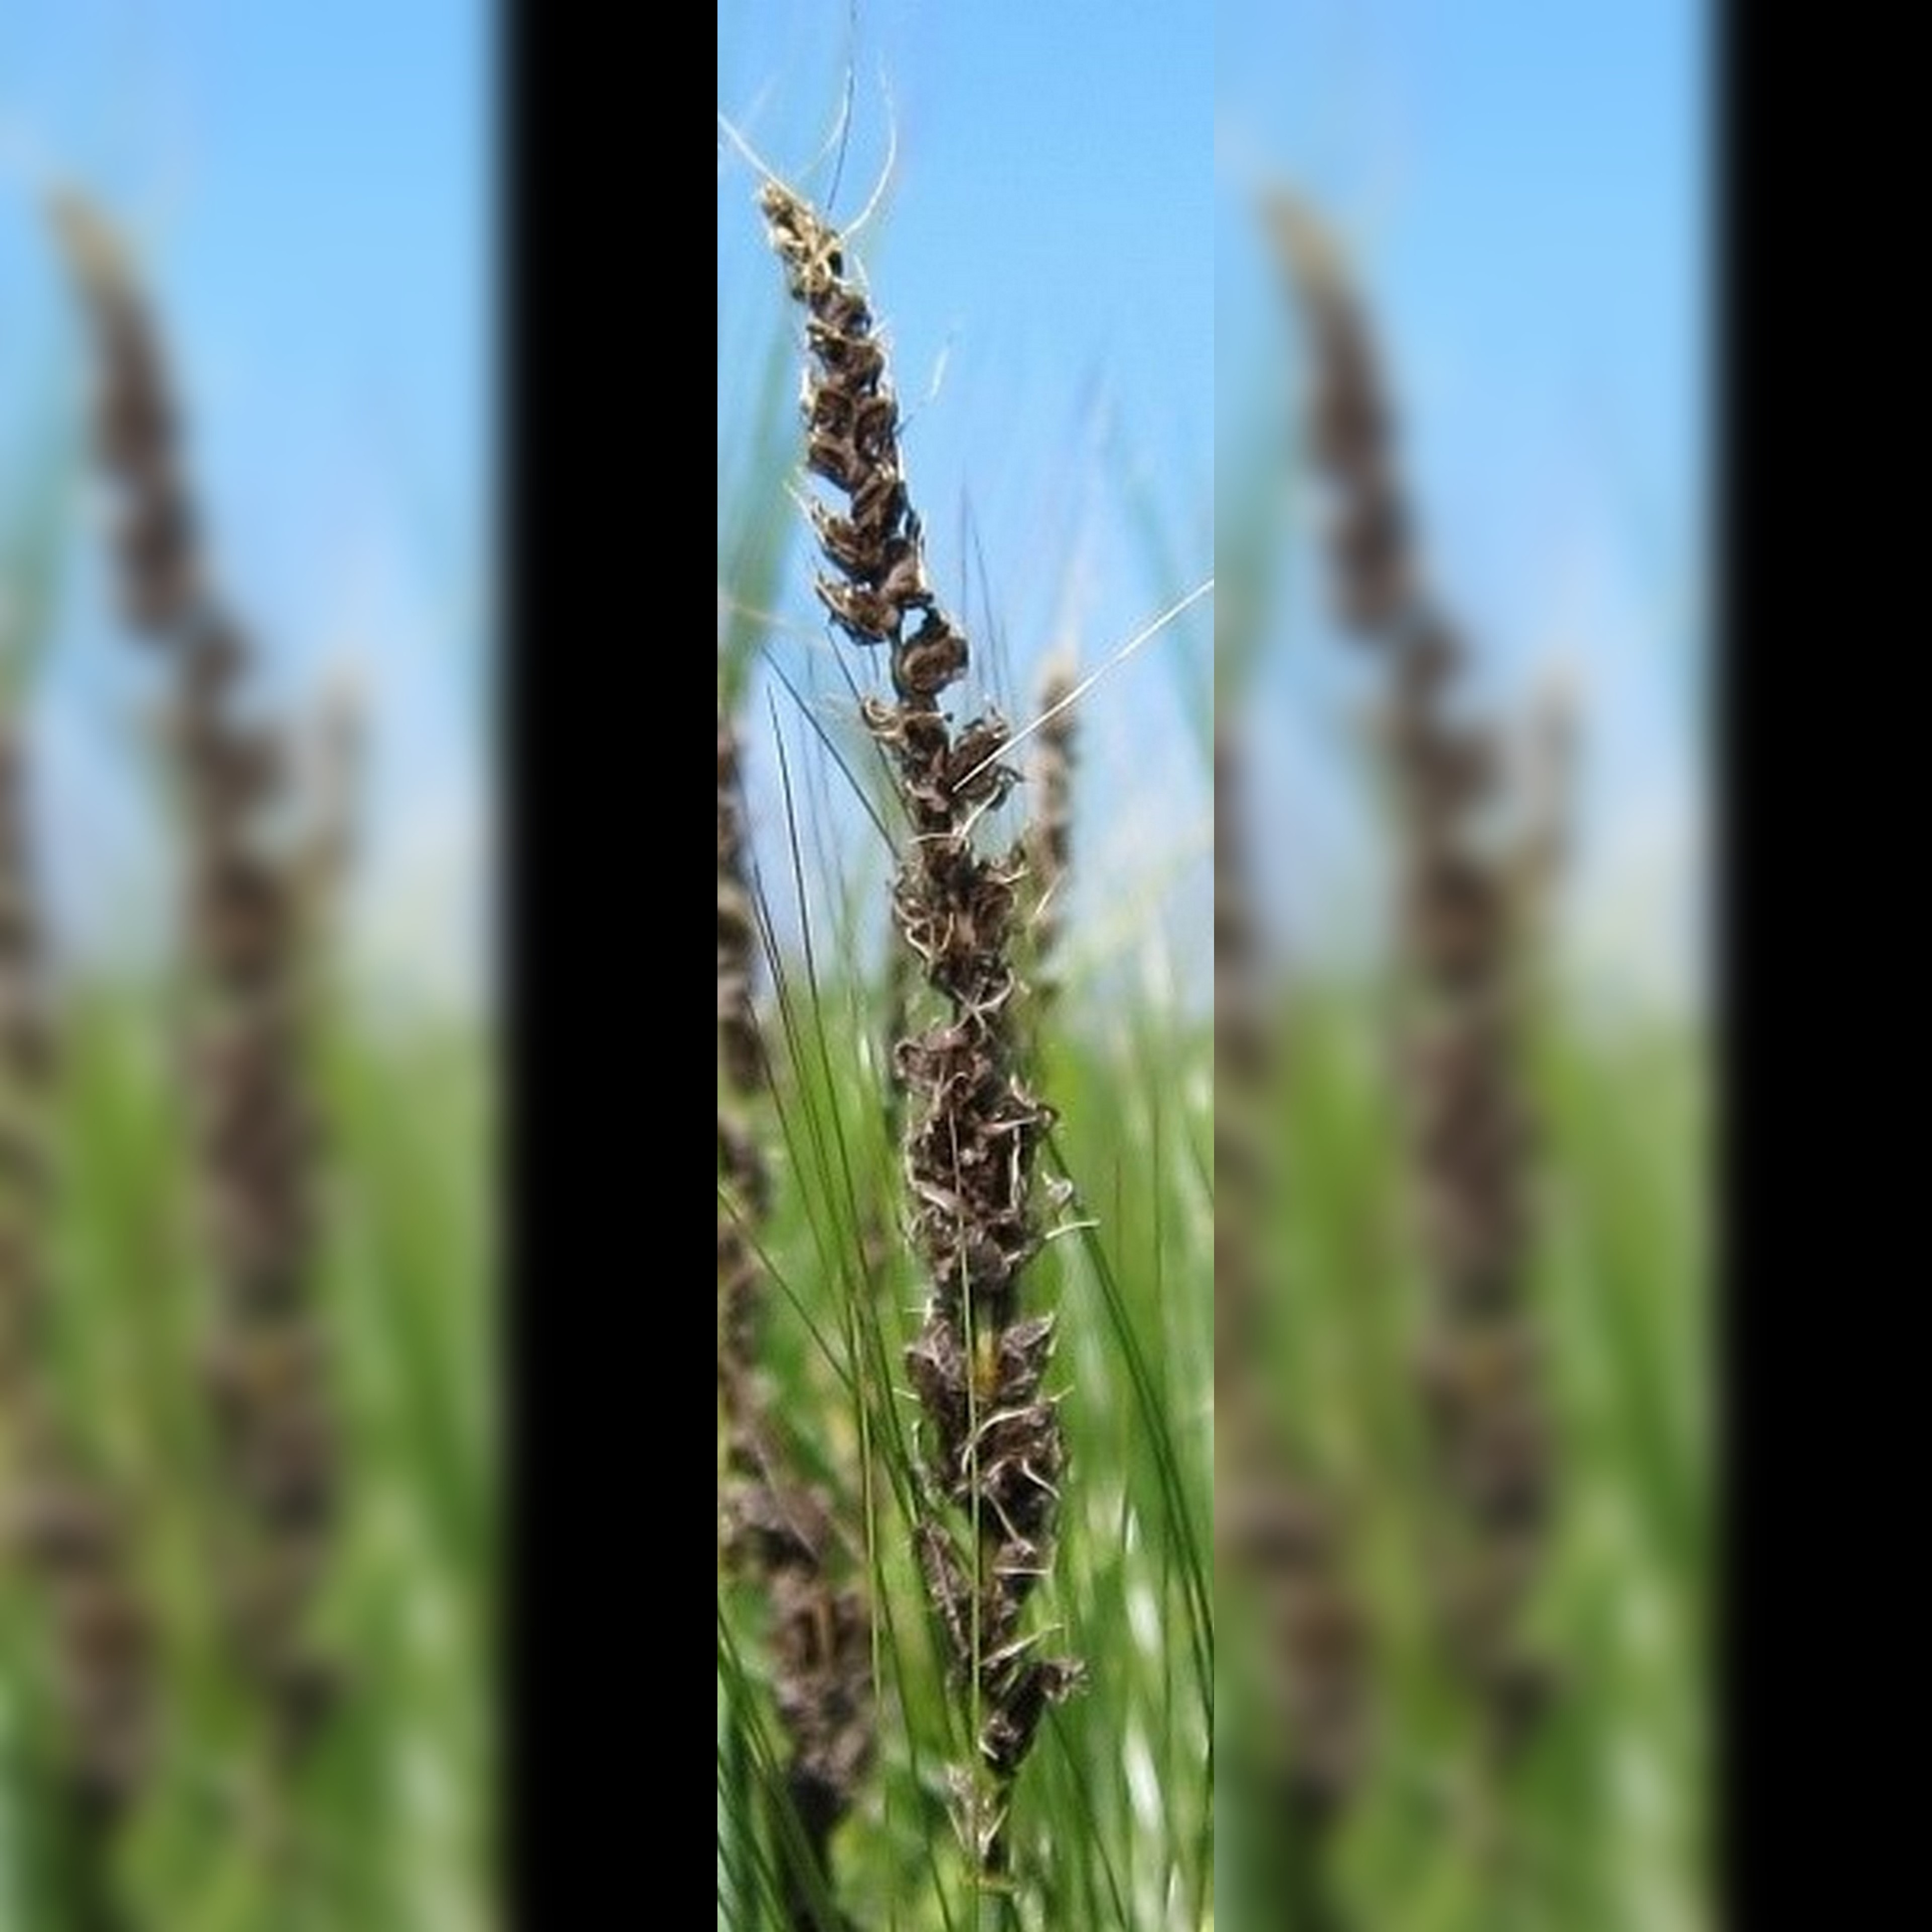Wheat Loose Smut: (748, 103, 1120, 1628)
